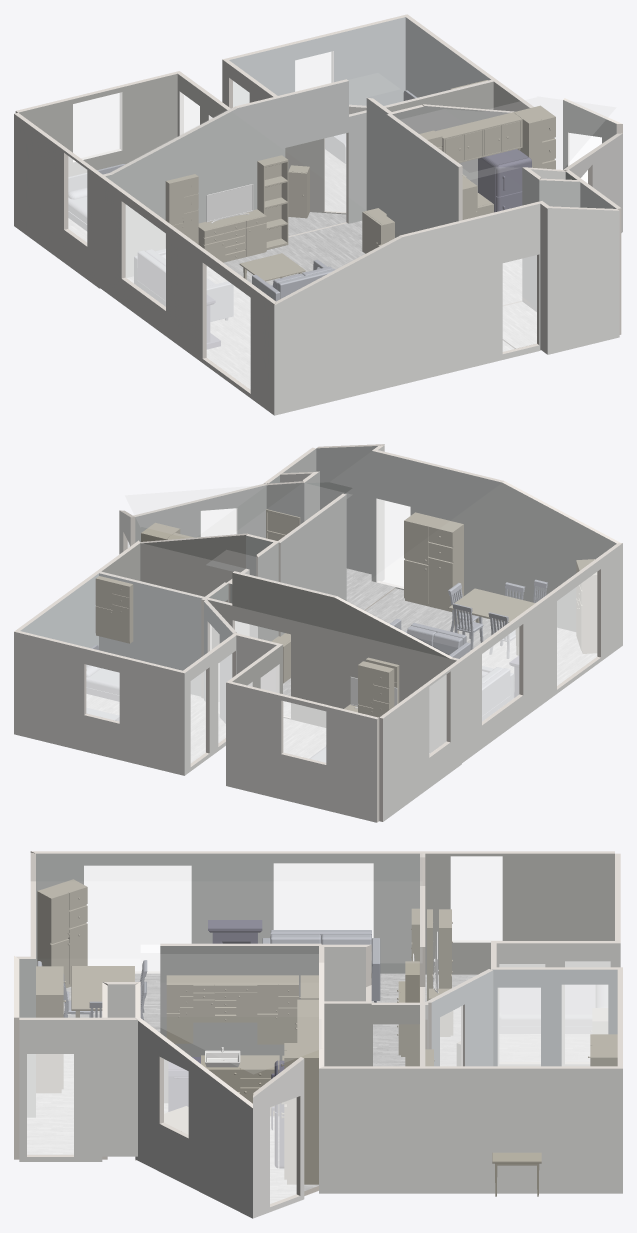
The model's file is room2.glb.
3 renders of one model, top to bottom at view 1: azimuth 30°, elevation 25°; view 2: azimuth 150°, elevation 25°; view 3: azimuth 270°, elevation 25°, orthographic. The views are drawn at different scales.
Visible parts, largest first — view 1: ceiling_Living Room_0 (×2), wall_0 (×2), wall_28 (×2), wall_15 (×3), ceiling_Bedroom_2, ceiling_Bedroom_1, ceiling_Kitchen_0 (×3), wall_5, wall_1 (×2), door_1 (×2), wall_14, wall_2 (+43 smaller); view 2: ceiling_Living Room_0 (×2), wall_0 (×2), wall_28 (×2), wall_1, wall_2 (×2), ceiling_Bedroom_1, ceiling_Bedroom_2, wall_15 (×3), ceiling_Kitchen_0 (×3), wall_14 (×2), door_1 (×2), wall_16 (+38 smaller); view 3: ceiling_Living Room_0 (×2), wall_17 (×2), door_1 (×2), ceiling_Bedroom_1, ceiling_Bedroom_2, ceiling_Kitchen_0 (×3), wall_15 (×2), wall_14 (×2), window_4 (×2), wall_3 (×2), wall_18, door_7 (×2) (+50 smaller).
Part boxes in pixels (bbox=[...]): ceiling_Living Room_0 (×2): bbox=[105, 75, 514, 300]; wall_0 (×2): bbox=[274, 201, 541, 415]; wall_28 (×2): bbox=[103, 79, 366, 277]; wall_15 (×3): bbox=[99, 175, 275, 415]; ceiling_Bedroom_2: bbox=[230, 17, 491, 106]; ceiling_Bedroom_1: bbox=[20, 74, 365, 174]; ceiling_Kitchen_0 (×3): bbox=[401, 97, 615, 179]; wall_5: bbox=[547, 208, 619, 354]; wall_1 (×2): bbox=[223, 14, 406, 107]; door_1 (×2): bbox=[207, 266, 250, 389]; wall_14: bbox=[14, 114, 99, 288]; wall_2: bbox=[18, 74, 177, 176]; ceiling_Living Room_0 (×2): bbox=[214, 457, 615, 658]; wall_0 (×2): bbox=[371, 450, 620, 631]; wall_28 (×2): bbox=[206, 571, 458, 752]; wall_1: bbox=[14, 632, 184, 775]; wall_2 (×2): bbox=[226, 682, 379, 822]; ceiling_Bedroom_1: bbox=[205, 598, 456, 716]; ceiling_Bedroom_2: bbox=[21, 573, 233, 669]; wall_15 (×3): bbox=[458, 543, 622, 762]; ceiling_Kitchen_0 (×3): bbox=[125, 483, 350, 540]; wall_14 (×2): bbox=[379, 661, 461, 821]; door_1 (×2): bbox=[557, 572, 596, 685]; wall_16: bbox=[99, 573, 202, 696]; ceiling_Living Room_0 (×2): bbox=[36, 854, 421, 958]; wall_17 (×2): bbox=[422, 1066, 622, 1193]; door_1 (×2): bbox=[84, 866, 191, 973]; ceiling_Bedroom_1: bbox=[423, 854, 614, 1002]; ceiling_Bedroom_2: bbox=[423, 970, 616, 1065]; ceiling_Kitchen_0 (×3): bbox=[141, 953, 321, 1073]; wall_15 (×2): bbox=[31, 851, 422, 973]; wall_14 (×2): bbox=[422, 851, 614, 974]; window_4 (×2): bbox=[274, 863, 373, 937]; wall_3 (×2): bbox=[135, 1018, 252, 1218]; wall_18: bbox=[319, 1068, 422, 1193]; door_7 (×2): bbox=[27, 1054, 73, 1154].
Size of the model in its own units: 10.67 by 3.4 by 11.21.
128 materials, 8 textured.
